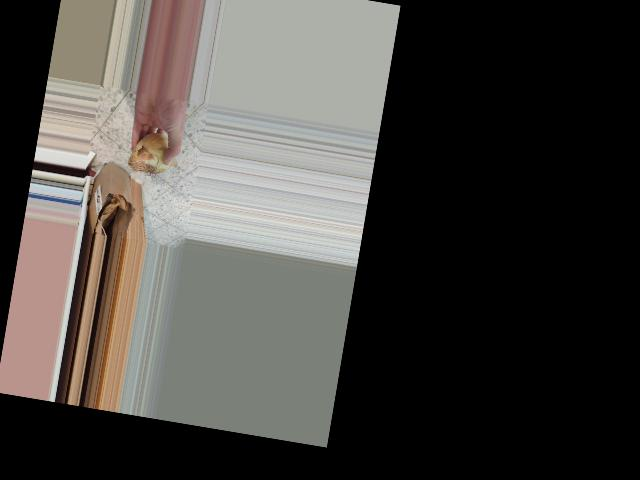onion: (124, 125, 182, 182)
